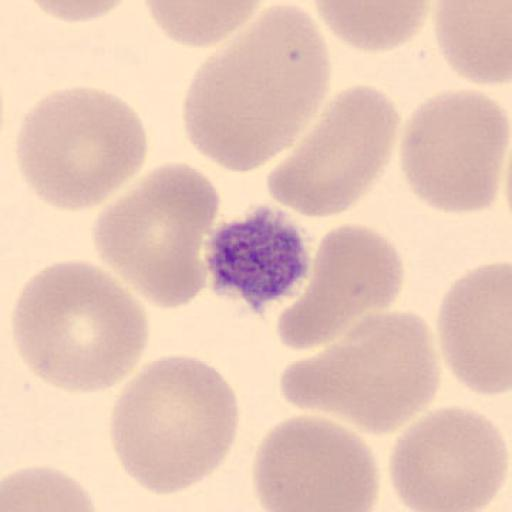Platelet: (202, 204, 316, 312)
RBC: (181, 3, 331, 172), (281, 310, 440, 438), (92, 162, 221, 309), (12, 258, 149, 396), (108, 355, 240, 497), (267, 82, 400, 220), (14, 85, 148, 213), (276, 223, 405, 351), (398, 88, 512, 218), (386, 404, 510, 511), (251, 412, 380, 512), (436, 260, 512, 397), (434, 0, 512, 86), (310, 0, 432, 52), (142, 0, 265, 48), (1, 465, 101, 512), (23, 0, 136, 23)
